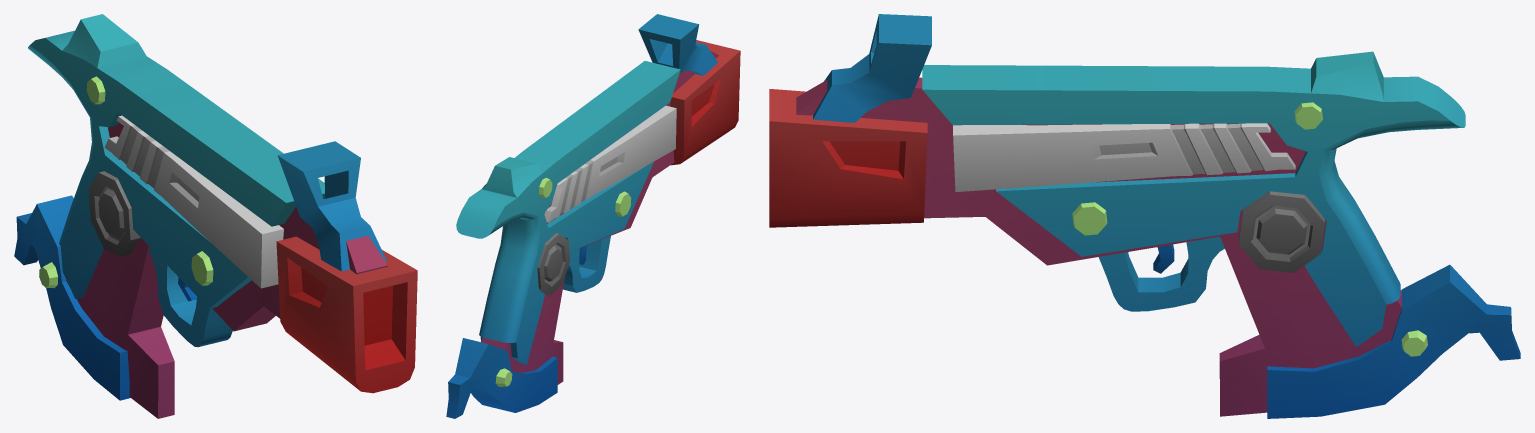
File: Gun2.fbx
3 renders of one model, left to right at view 1: azimuth 30°, elevation 25°; view 2: azimuth 150°, elevation 25°; view 3: azimuth 270°, elevation 25°, orthographic. The views are drawn at different scales.
Parts seen in each view (by area): view 1: Cube; view 2: Cube; view 3: Cube.
Boxes of the visible parts, left/top/right/bottom form: Cube: left=14, top=14, right=417, bottom=418; Cube: left=446, top=14, right=740, bottom=418; Cube: left=769, top=14, right=1520, bottom=418.
Size of the model in its own units: 9.53 by 50.03 by 88.69.
Materials: 1 (1 with a texture image).
